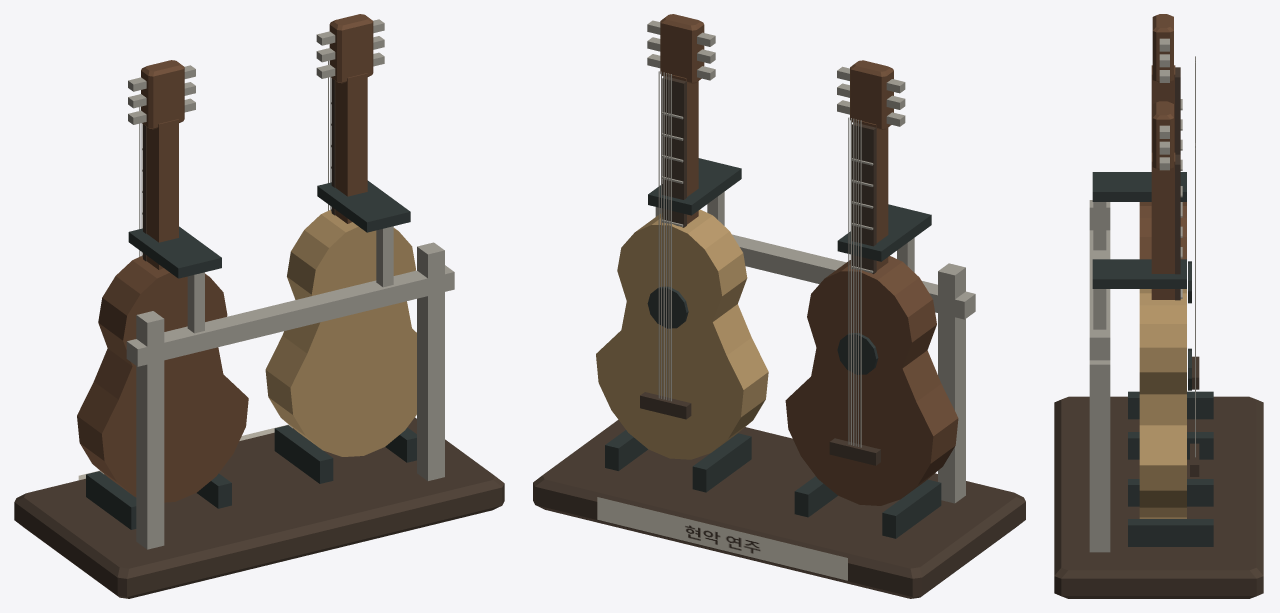
Rendered from P05_Acoustic_Guitar_Rack.fbx.
3 views of the same model, side by side, from view 1: azimuth 30°, elevation 25°; view 2: azimuth 150°, elevation 25°; view 3: azimuth 270°, elevation 25° (orthographic). The views are drawn at different scales.
Visible parts, largest first — view 1: Rack, Guitar_02, Guitar_01; view 2: Rack, Guitar_01, Guitar_02, Front_Label; view 3: Rack, Guitar_02, Guitar_01.
Part boxes in pixels (box(x1,y1,x2,y2)): Rack: box(14, 180, 504, 598); Guitar_02: box(265, 14, 416, 456); Guitar_01: box(77, 60, 248, 502); Rack: box(533, 158, 1025, 598); Guitar_01: box(785, 60, 958, 505); Guitar_02: box(596, 14, 768, 459); Front_Label: box(597, 497, 847, 580); Rack: box(1054, 172, 1263, 598); Guitar_02: box(1139, 101, 1199, 518); Guitar_01: box(1139, 14, 1199, 389).
Size of the model in its own units: 1.8 by 2.1 by 0.9.
6 materials, 1 textured.
